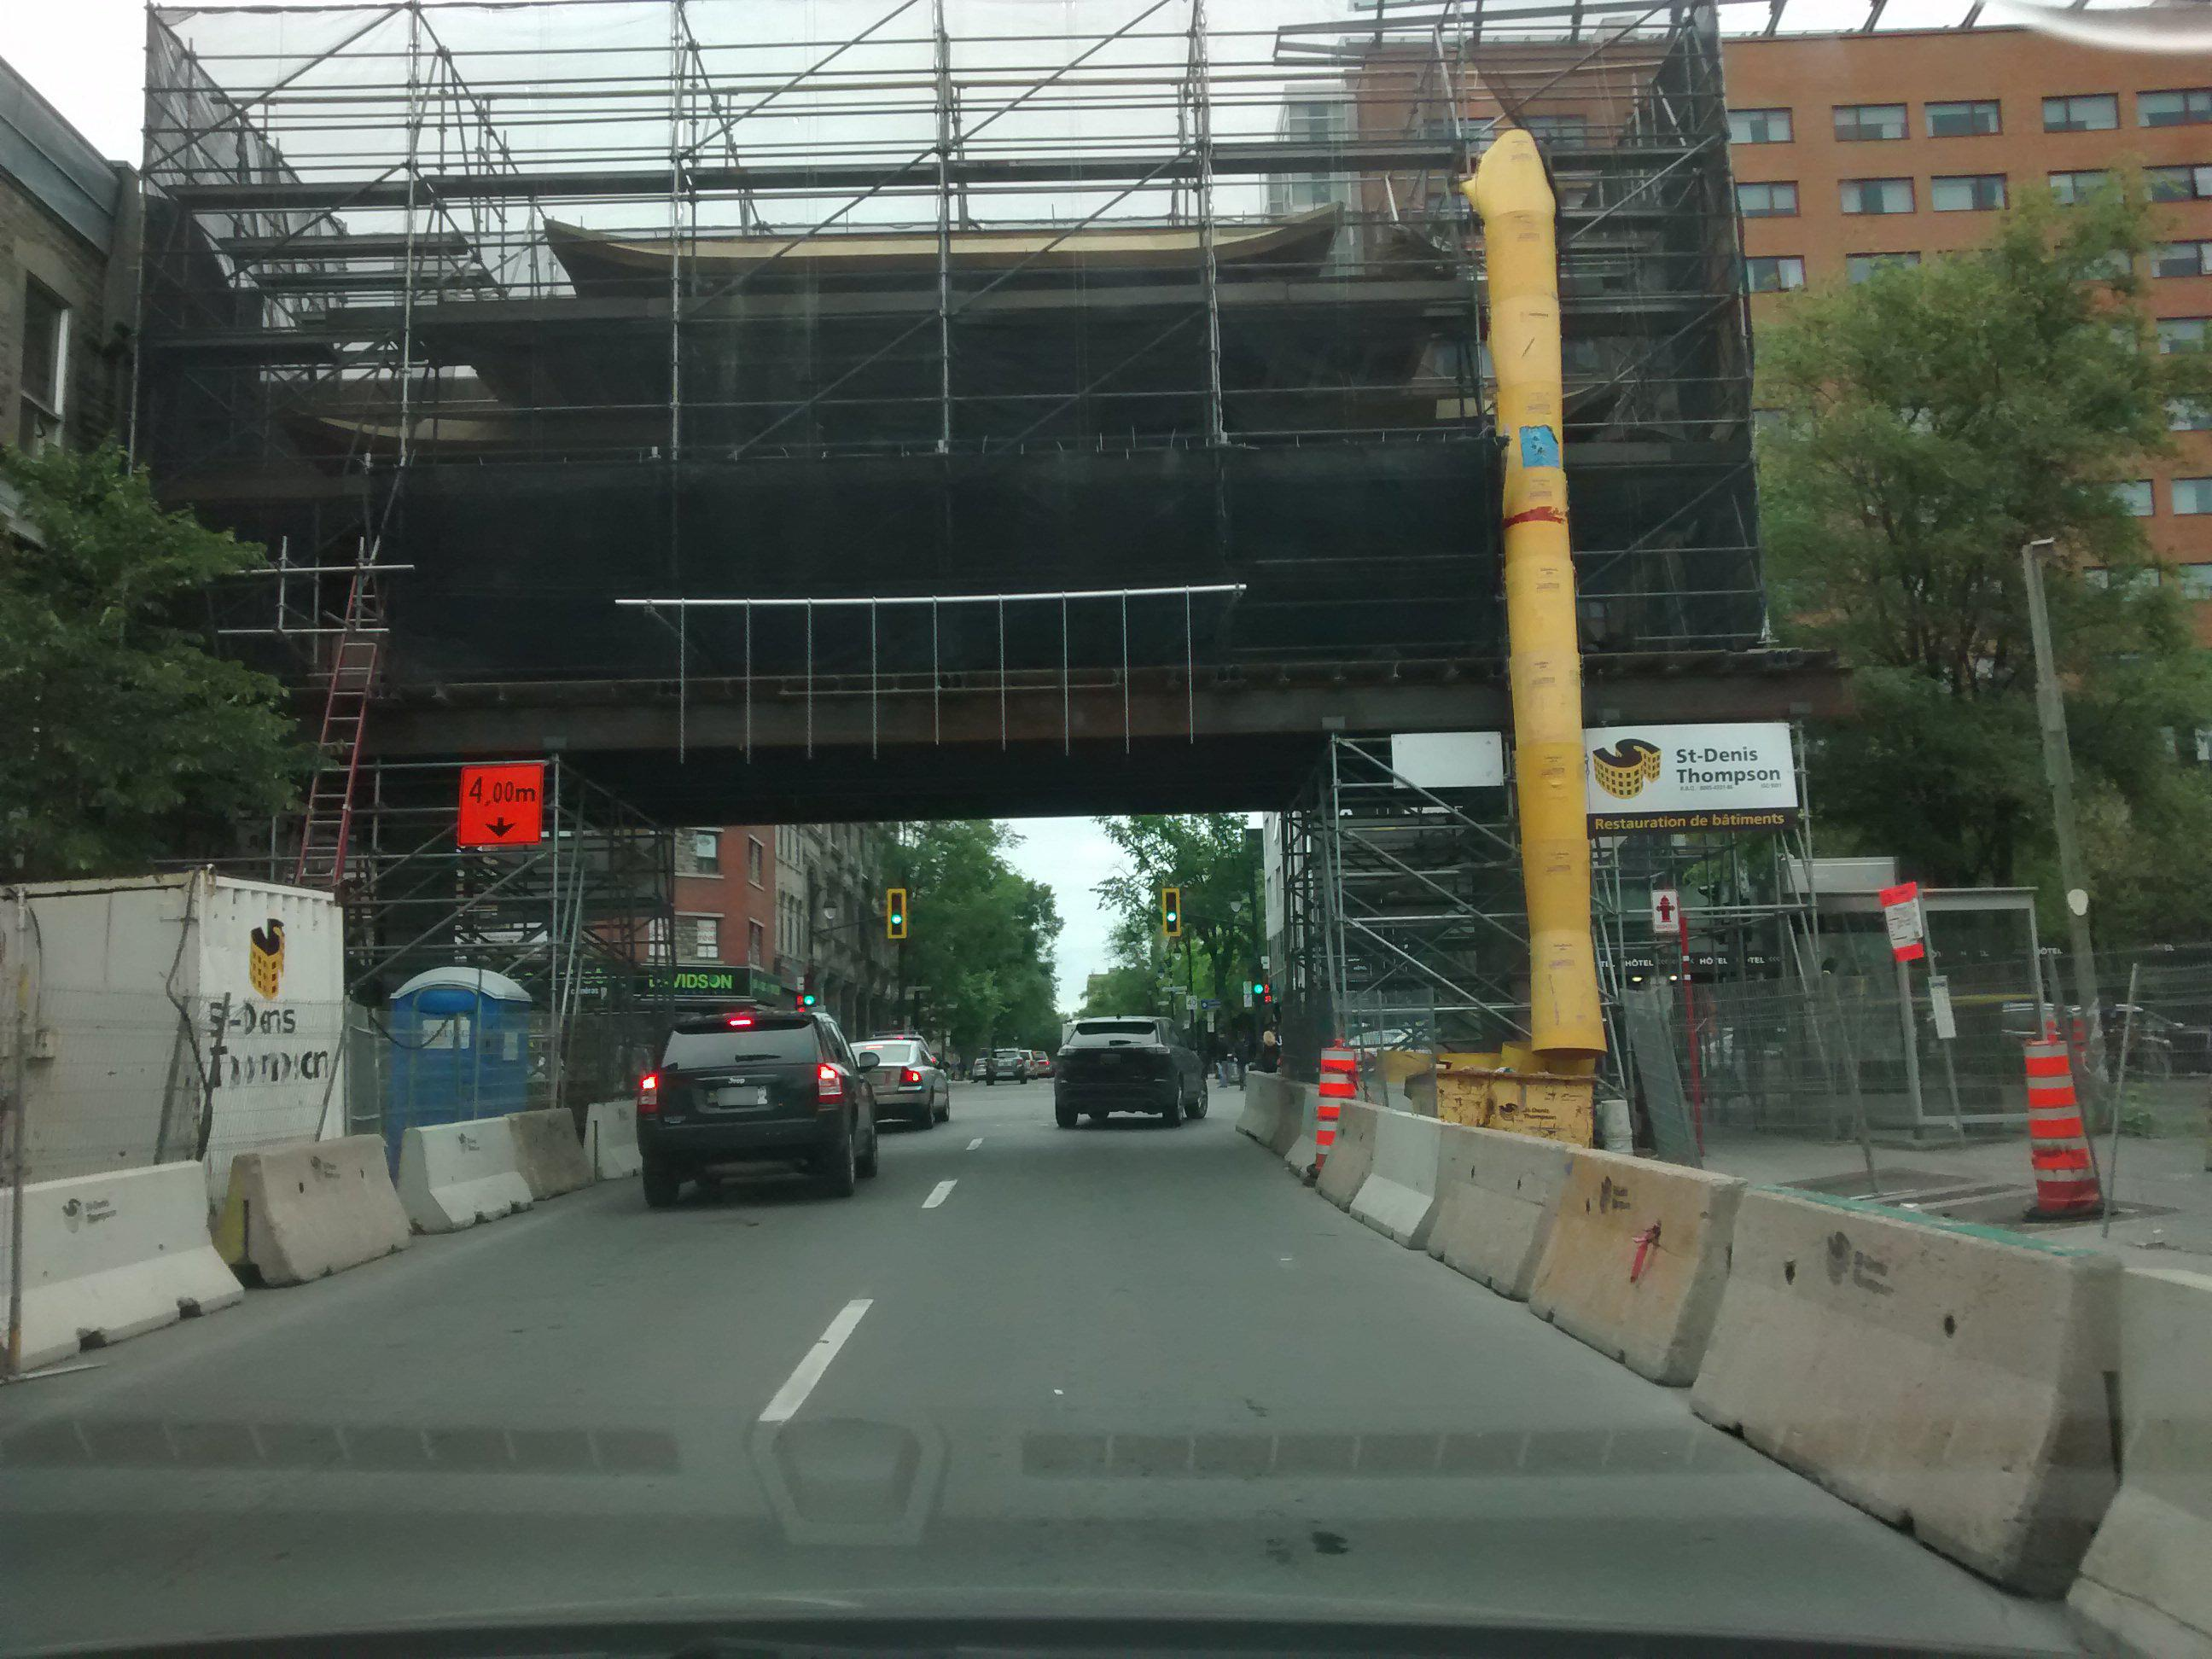vinyl banner: (1569, 701, 1817, 833)
